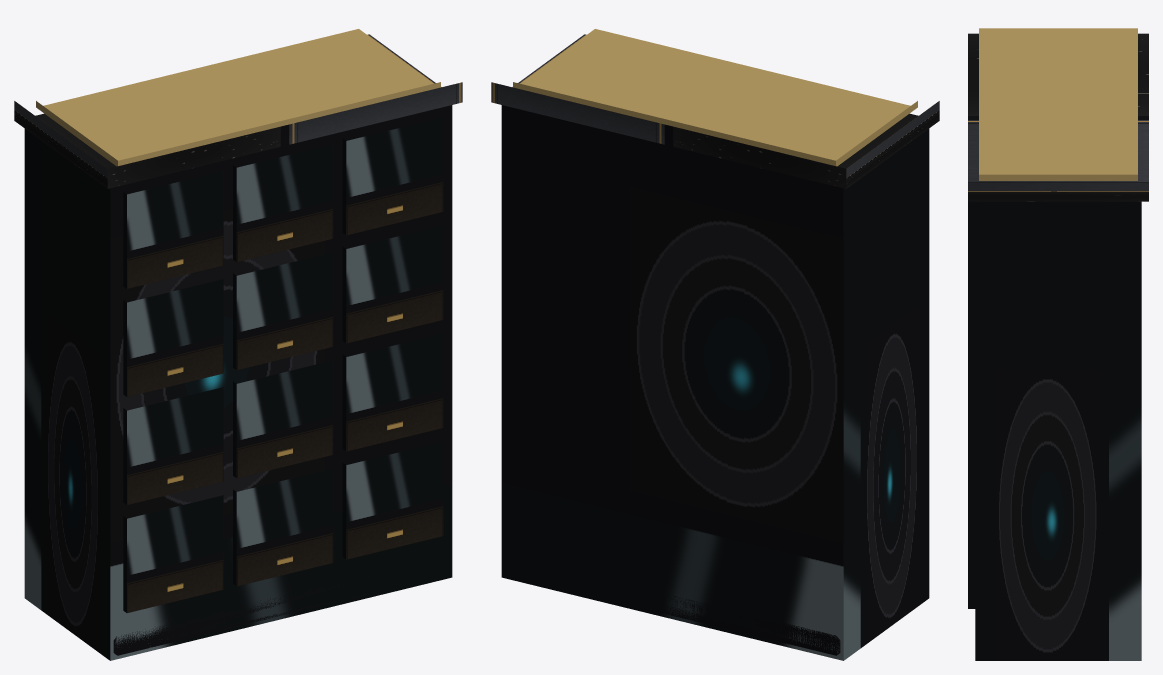
Rendered from room_l3_img2_archive_card_cabinet.glb.
3 views of the same model, side by side, from view 1: azimuth 30°, elevation 25°; view 2: azimuth 150°, elevation 25°; view 3: azimuth 270°, elevation 25° (orthographic). The views are drawn at different scales.
Parts seen in each view (by area): view 1: cabinet_body, dust_layer, cabinet_cap, drawer_1_2, drawer_2_2, drawer_3_2, drawer_0_2, drawer_0_1, drawer_0_0, drawer_2_1, drawer_1_0, drawer_1_1 (+4 smaller); view 2: cabinet_body, dust_layer, cabinet_cap, kick_rail; view 3: cabinet_body, dust_layer, cabinet_cap, drawer_2_2, drawer_3_2, drawer_0_2, drawer_1_2.
Part boxes in pixels (x1,y1,x2,y2): cabinet_body: (24, 105, 452, 660); dust_layer: (36, 29, 440, 166); cabinet_cap: (14, 34, 462, 188); drawer_1_2: (342, 333, 443, 451); drawer_2_2: (342, 225, 443, 343); drawer_3_2: (342, 117, 443, 235); drawer_0_2: (342, 441, 443, 559); drawer_0_1: (233, 468, 333, 586); drawer_0_0: (123, 495, 223, 612); drawer_2_1: (233, 252, 333, 370); drawer_1_0: (123, 387, 223, 504); drawer_1_1: (233, 360, 333, 478); cabinet_body: (501, 105, 929, 660); dust_layer: (513, 29, 917, 166); cabinet_cap: (491, 34, 939, 188); kick_rail: (506, 557, 840, 655); cabinet_body: (975, 201, 1141, 660); dust_layer: (979, 28, 1137, 180); cabinet_cap: (968, 33, 1148, 201); drawer_2_2: (968, 307, 975, 399); drawer_3_2: (968, 202, 975, 294); drawer_0_2: (968, 517, 975, 608); drawer_1_2: (968, 412, 975, 503).
Bounding box in the file's own units: 1.1 × 1.47 × 0.5.
4 materials, 4 textured.
